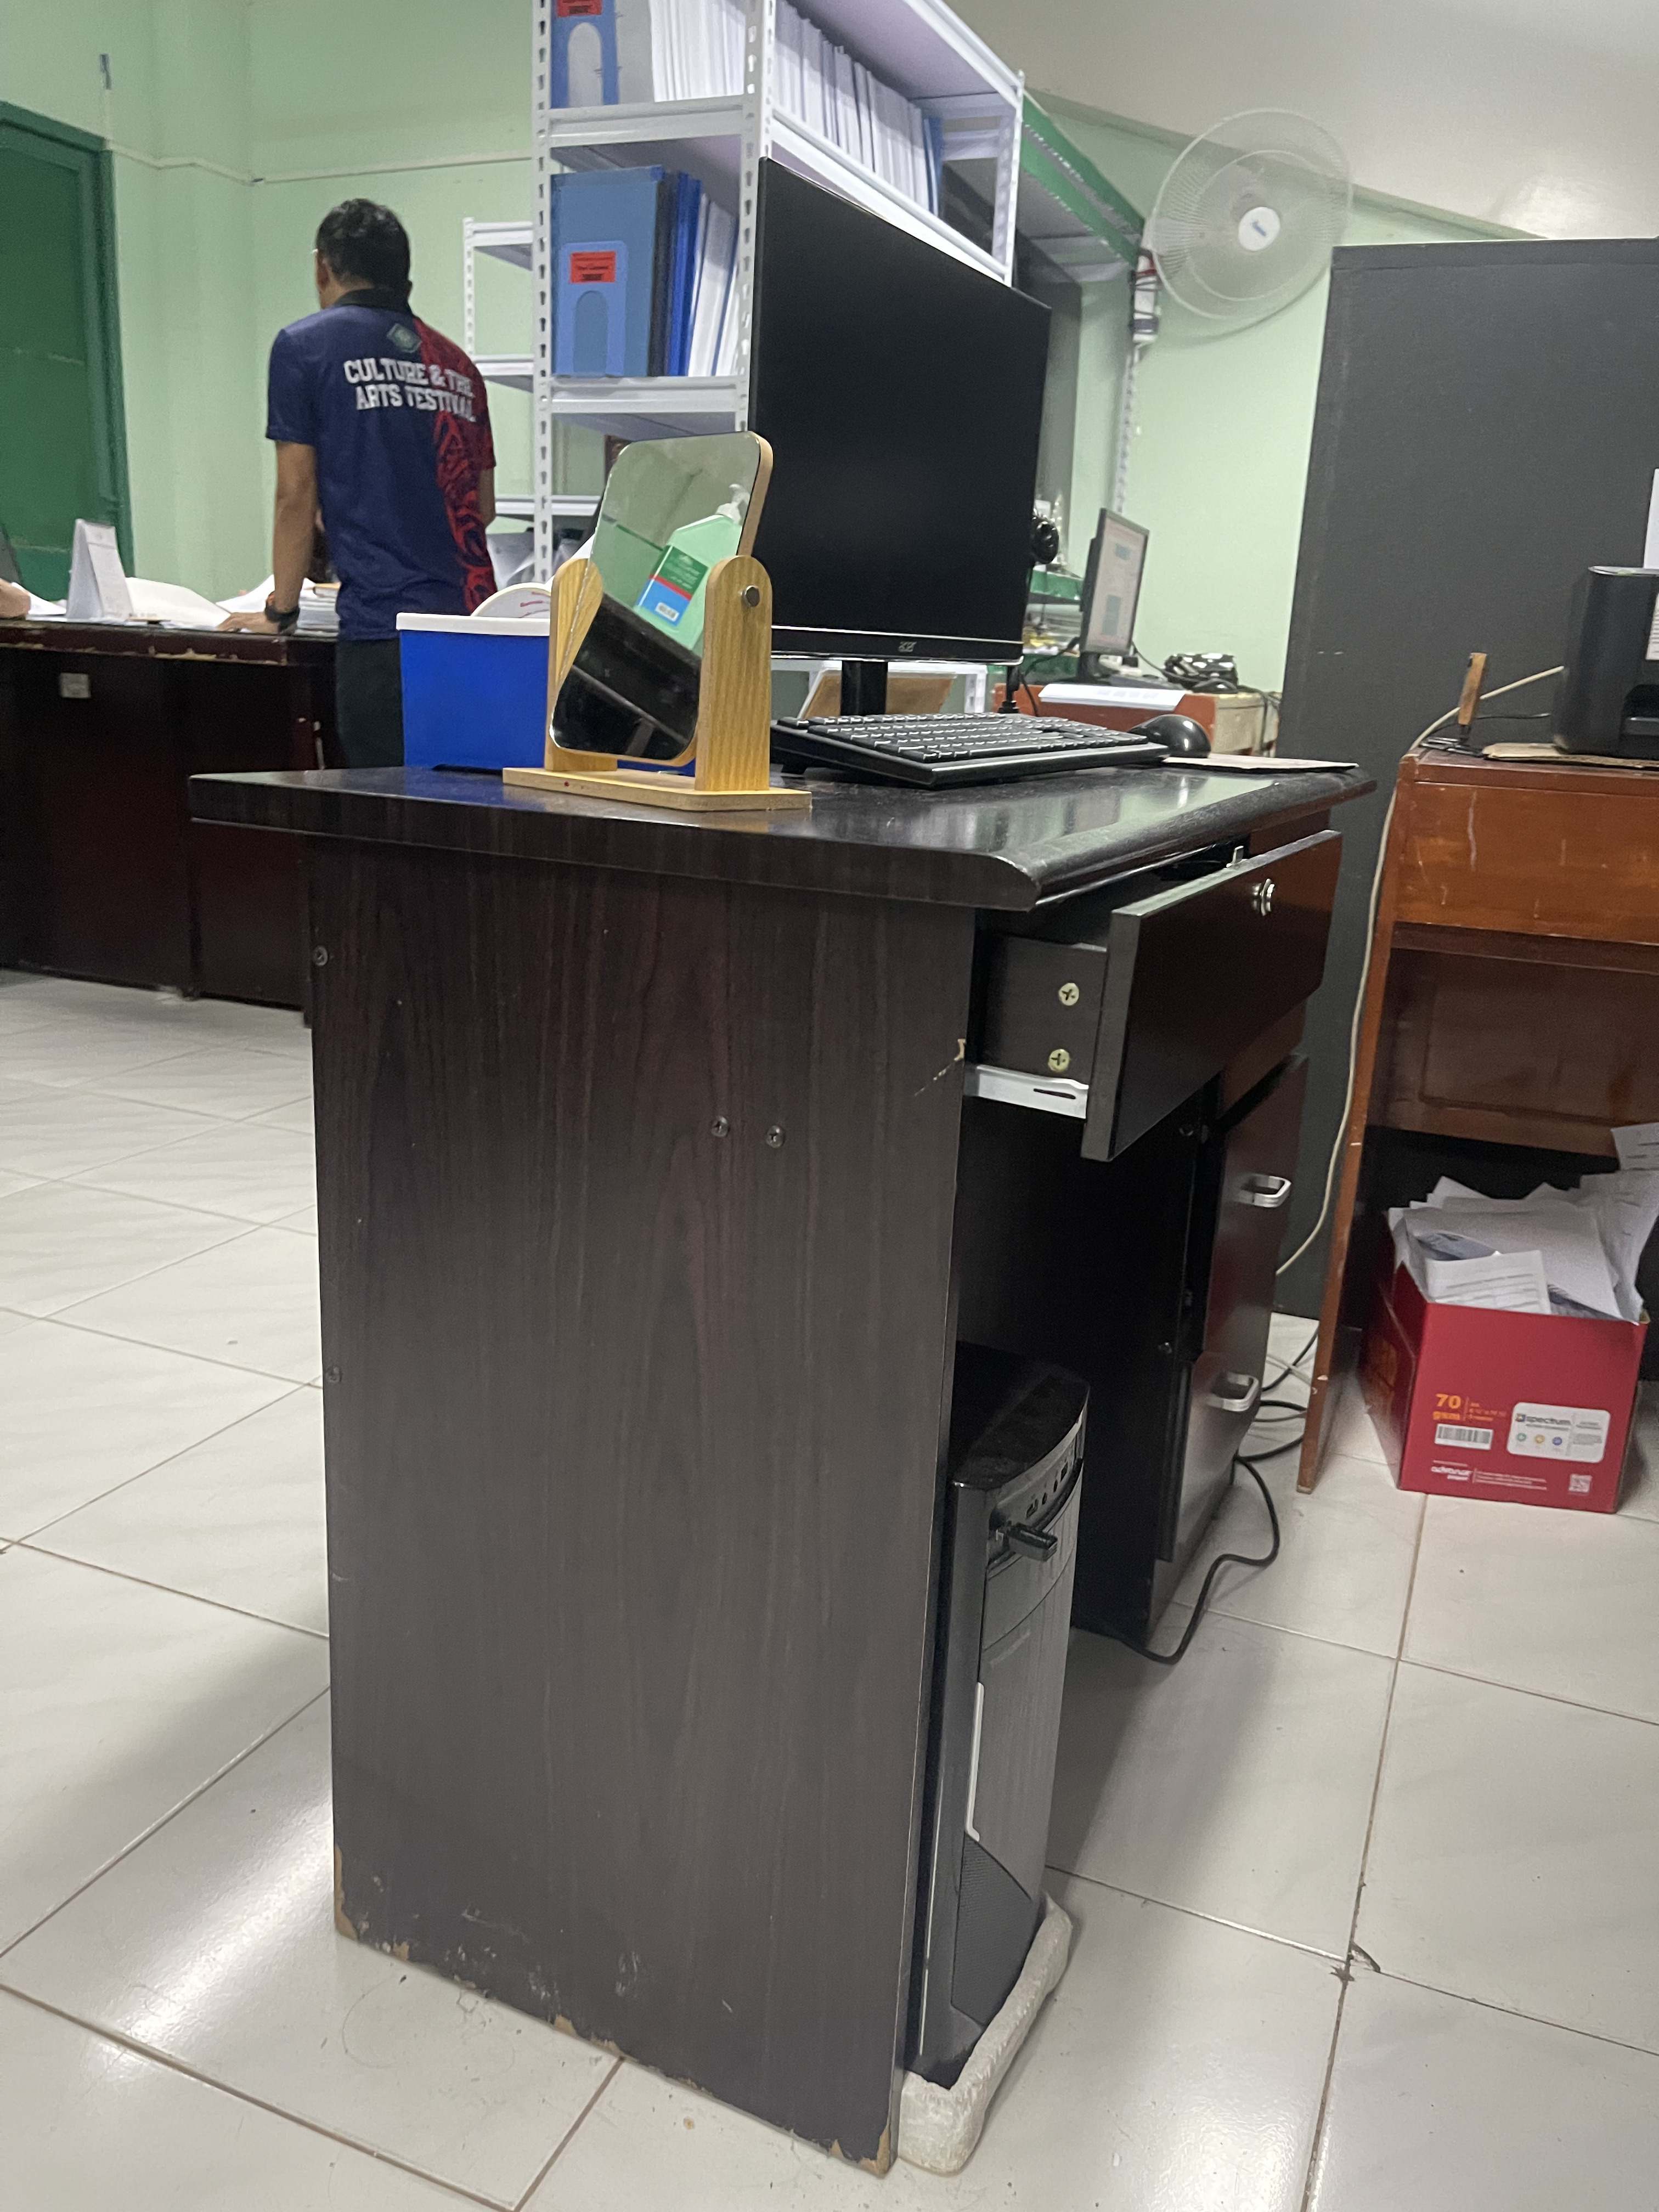table1: (183, 712, 1413, 2184)
